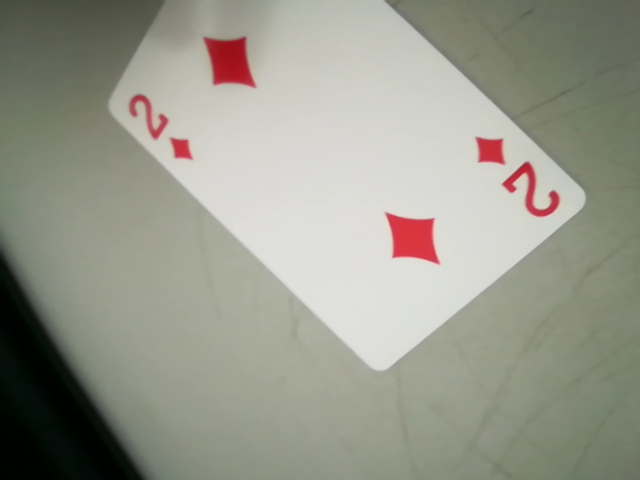fk 2: (477, 132, 564, 228), (115, 75, 200, 167)
